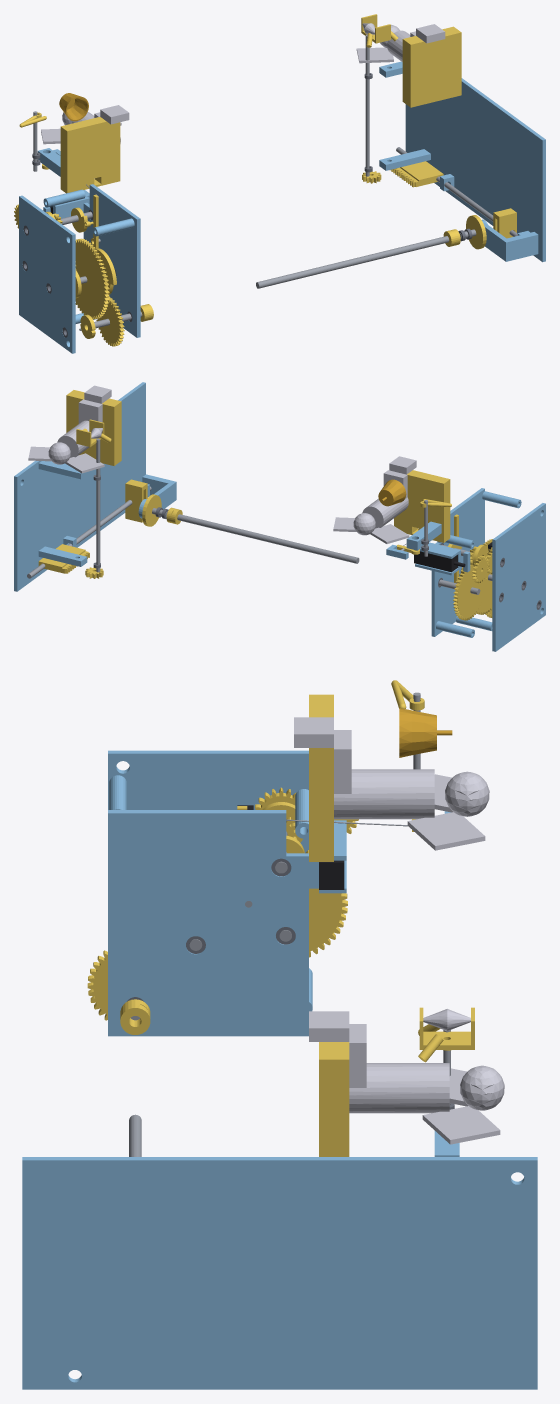
The model's file is e1_angels_exploded.dae.
3 renders of one model, top to bottom at view 1: azimuth 30°, elevation 25°; view 2: azimuth 150°, elevation 25°; view 3: azimuth 270°, elevation 25°, orthographic. The views are drawn at different scales.
Parts seen in each view (by area): view 1: glass_tower_plate, tower_outer_plate, tower_inner_plate, plinth_bell, plinth_glass, count_wheel_60, cross_shaft, figure_glass, glass_crank_block, figure_bell, tower_pillars, rack (+10 smaller); view 2: glass_tower_plate, tower_outer_plate, tower_inner_plate, plinth_bell, figure_glass, figure_bell, plinth_glass, cross_shaft, tower_pillars, intermediate_48_12, glass_crank_block, shoulder_bracket (+13 smaller); view 3: glass_tower_plate, tower_inner_plate, figure_glass, figure_bell, tower_outer_plate, plinth_glass, plinth_bell, intermediate_48_12, bell, forearms_and_frame, tower_pillars, cross_gear_36 (+2 smaller).
Boxes of the visible parts, <box> form: glass_tower_plate: <box>405,78,545,262</box>; tower_outer_plate: <box>19,195,75,353</box>; tower_inner_plate: <box>83,184,140,337</box>; plinth_bell: <box>60,117,120,193</box>; plinth_glass: <box>402,26,461,107</box>; count_wheel_60: <box>75,238,109,319</box>; cross_shaft: <box>256,236,449,288</box>; figure_glass: <box>356,24,445,63</box>; glass_crank_block: <box>481,219,538,261</box>; figure_bell: <box>41,105,129,144</box>; tower_pillars: <box>43,189,134,323</box>; rack: <box>389,161,443,187</box>; glass_tower_plate: <box>14,382,145,591</box>; tower_outer_plate: <box>492,503,545,651</box>; tower_inner_plate: <box>431,488,484,636</box>; plinth_bell: <box>394,470,450,542</box>; figure_glass: <box>28,385,111,473</box>; figure_bell: <box>333,456,416,543</box>; plinth_glass: <box>66,390,121,465</box>; cross_shaft: <box>177,514,359,563</box>; tower_pillars: <box>436,491,521,637</box>; intermediate_48_12: <box>453,564,487,620</box>; glass_crank_block: <box>138,474,176,518</box>; shoulder_bracket: <box>386,521,441,559</box>; glass_tower_plate: <box>22,1157,537,1389</box>; tower_inner_plate: <box>108,810,308,1036</box>; figure_glass: <box>309,1011,504,1144</box>; figure_bell: <box>294,717,489,850</box>; tower_outer_plate: <box>108,750,308,852</box>; plinth_glass: <box>319,1042,349,1156</box>; plinth_bell: <box>309,694,333,861</box>; intermediate_48_12: <box>305,850,347,957</box>; bell: <box>399,708,452,757</box>; forearms_and_frame: <box>418,1007,474,1062</box>; tower_pillars: <box>109,775,312,1011</box>; cross_gear_36: <box>87,950,107,1020</box>.
Size of the model in its own units: 395 by 205 by 155.
